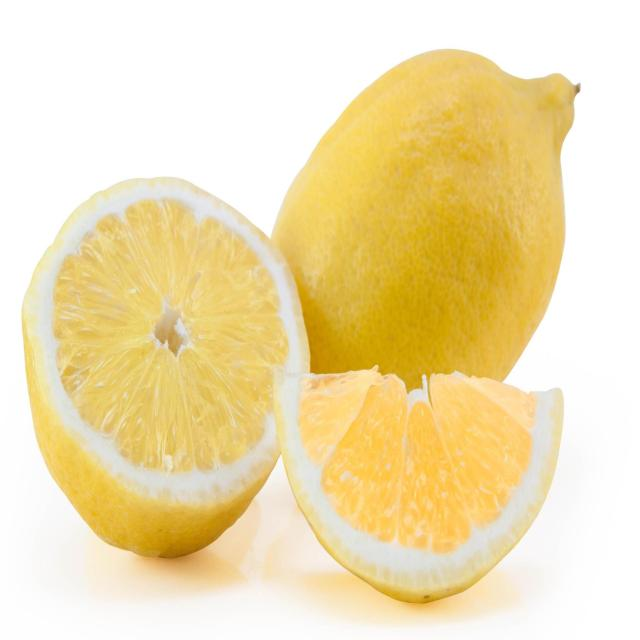lemon: (15, 166, 309, 562), (266, 365, 570, 610)
